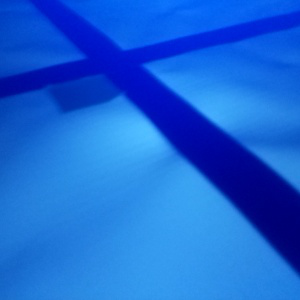bottom_left: (47, 66, 144, 113)
